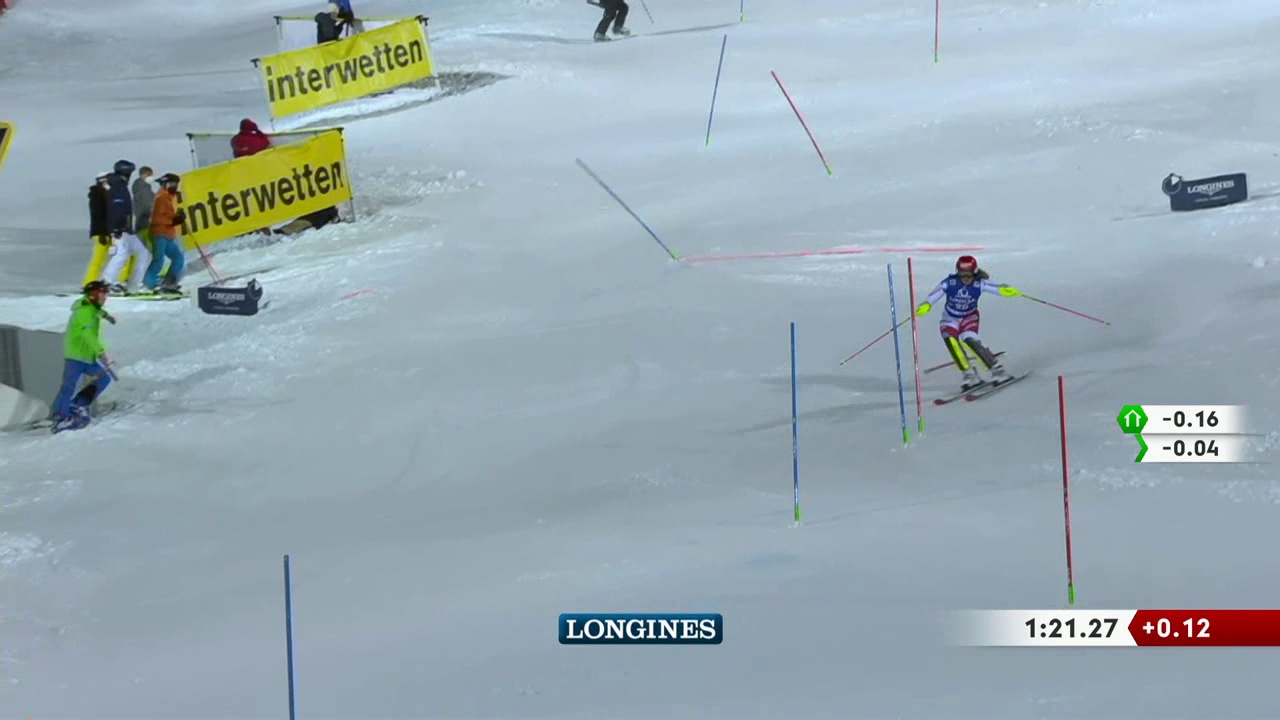interwetten: (263, 27, 428, 116)
longines: (555, 612, 732, 646), (1175, 173, 1241, 207)
raiffeisen: (172, 145, 335, 247)
